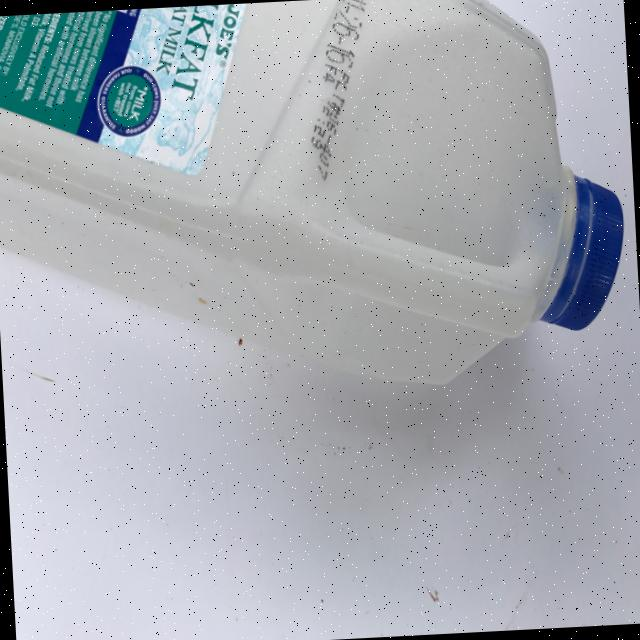plastic: (0, 0, 632, 409)
